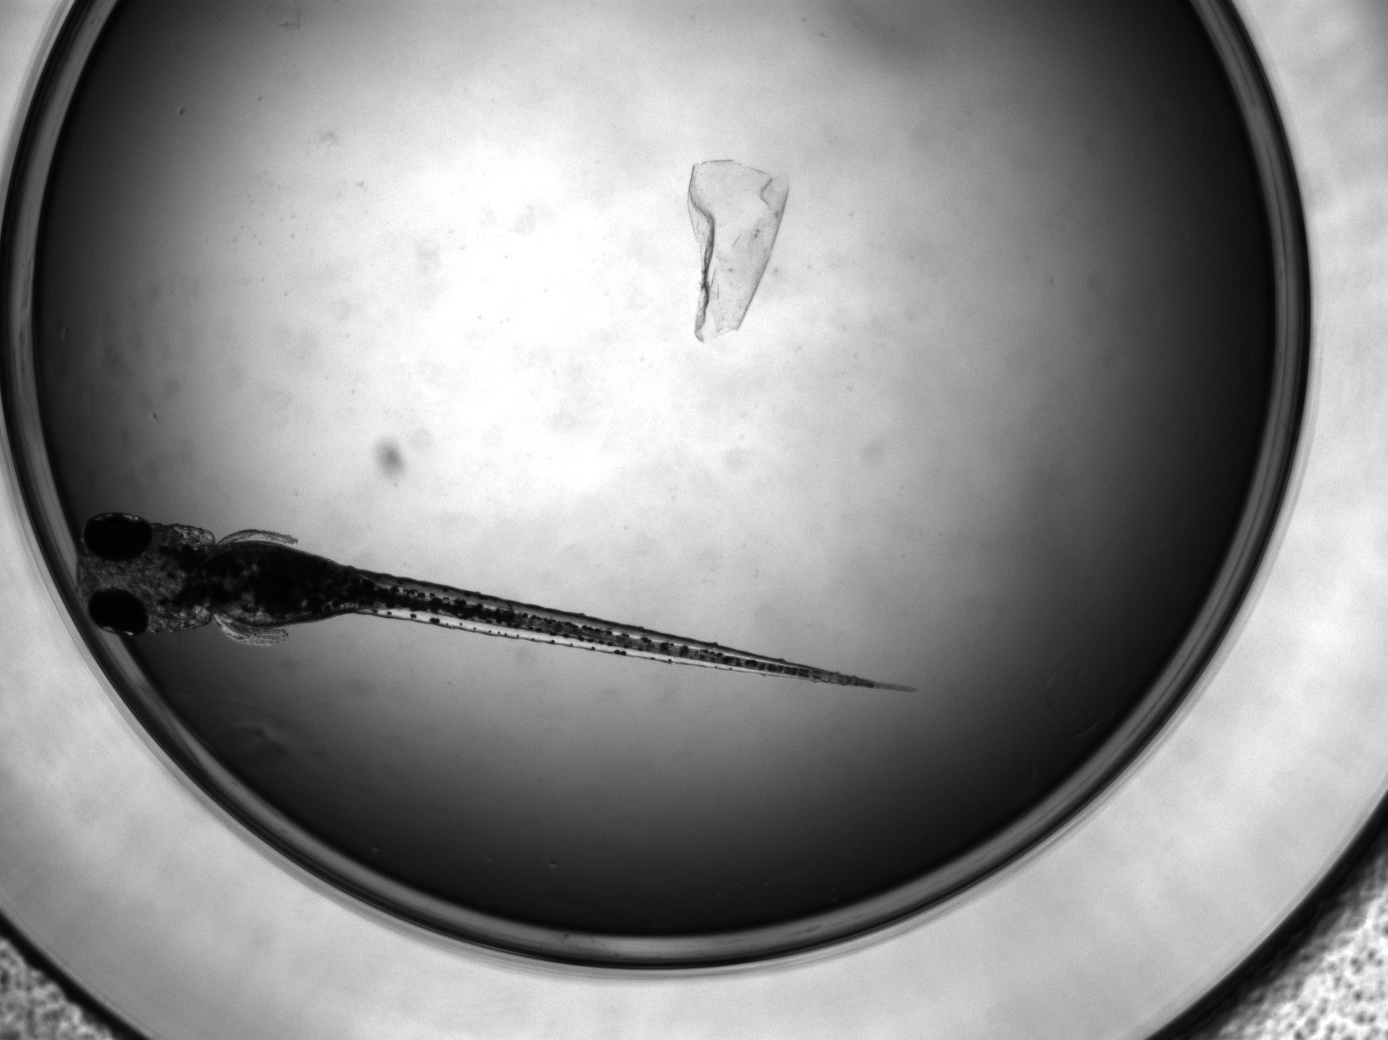debris: (686, 159, 793, 345)
embryo: (74, 513, 927, 697)
eye: (87, 587, 152, 641), (81, 515, 153, 562)
yolksac: (212, 541, 375, 627)
